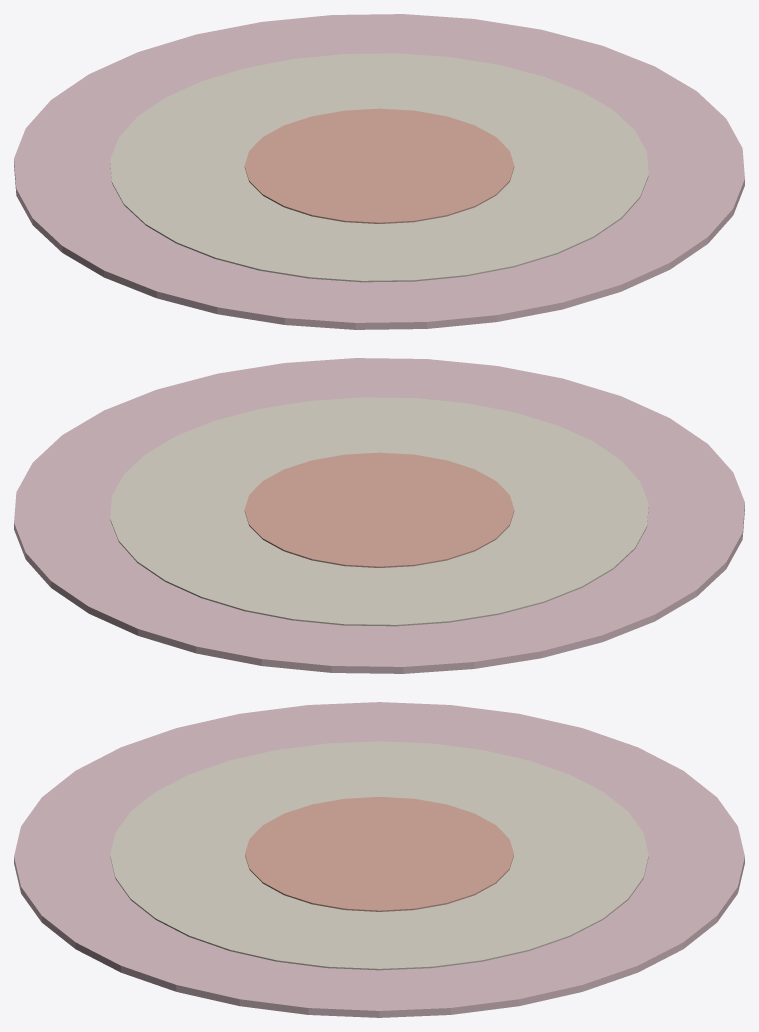
The model's file is furn_rug_round__pink.glb.
The picture shows the model from 3 angles, top to bottom: view 1: azimuth 30°, elevation 25°; view 2: azimuth 150°, elevation 25°; view 3: azimuth 270°, elevation 25°; orthographic projection.
Bounding box in the file's own units: 1.9 × 0.028 × 1.9.
